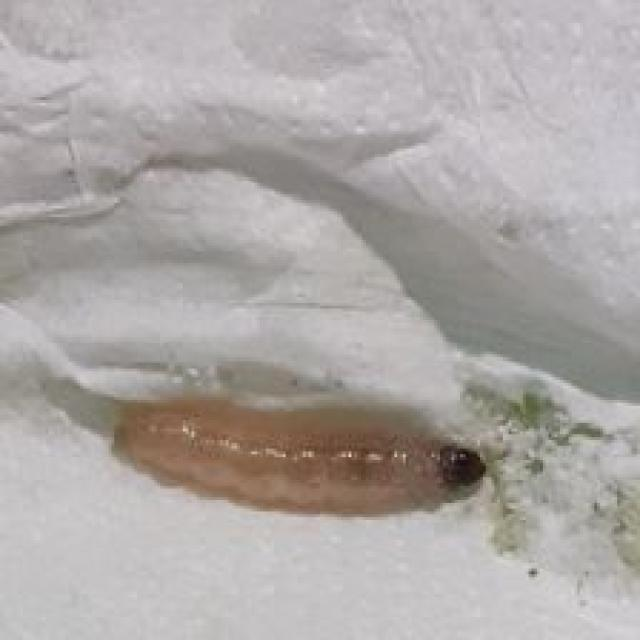white mucus: (86, 390, 517, 542)
